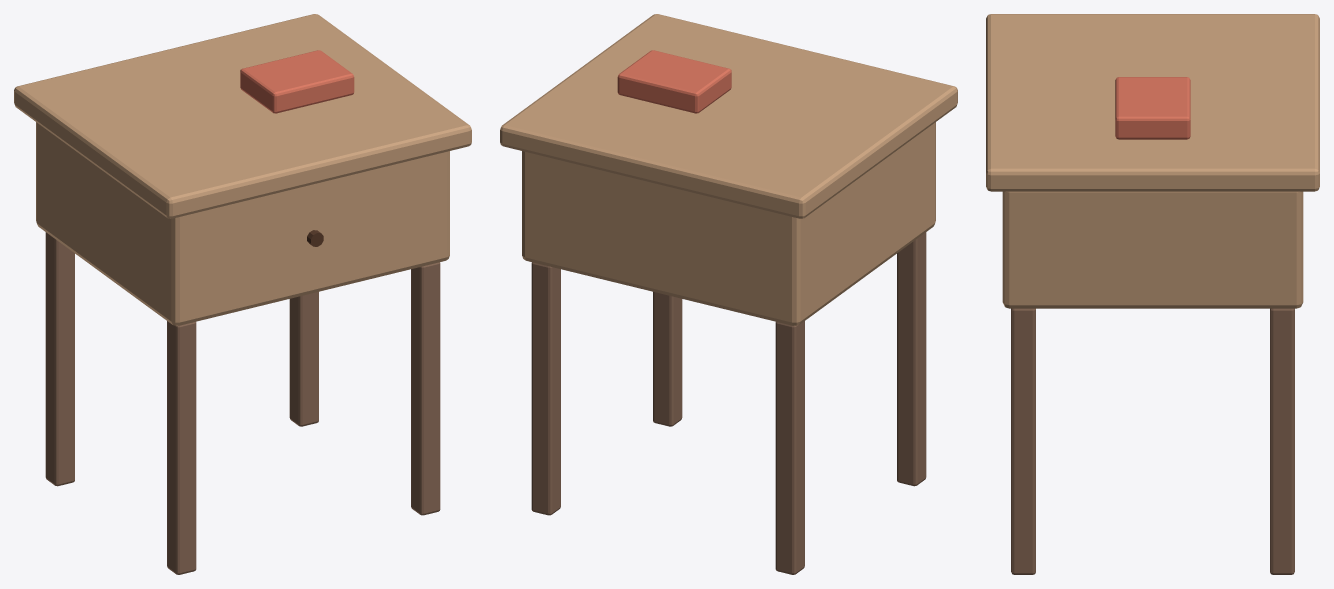
File: hh_bedside_table.glb
3 views of the same model, side by side, from view 1: azimuth 30°, elevation 25°; view 2: azimuth 150°, elevation 25°; view 3: azimuth 270°, elevation 25° (orthographic). The views are drawn at different scales.
Parts seen in each view (by area): view 1: top, drawer_box, leg, leg.002, leg.001, book, leg.003; view 2: top, drawer_box, leg.001, leg.003, leg, book, leg.002; view 3: top, drawer_box, leg.002, leg.003, book.
Boxes of the visible parts, <box> form: top: <box>14,14,471,218</box>; drawer_box: <box>36,122,449,325</box>; leg: <box>167,321,196,574</box>; leg.002: <box>411,262,440,515</box>; leg.001: <box>45,232,74,486</box>; book: <box>240,50,354,113</box>; leg.003: <box>289,292,318,426</box>; top: <box>500,14,957,218</box>; drawer_box: <box>522,122,935,325</box>; leg.001: <box>775,321,804,574</box>; leg.003: <box>531,262,560,515</box>; leg: <box>897,232,926,486</box>; book: <box>617,50,731,113</box>; leg.002: <box>653,292,682,426</box>; top: <box>986,14,1319,191</box>; drawer_box: <box>1002,191,1303,308</box>; leg.002: <box>1011,308,1035,574</box>; leg.003: <box>1270,308,1294,574</box>; book: <box>1115,77,1190,139</box>.
Bounding box in the file's own units: 0.45 × 0.58 × 0.4.
